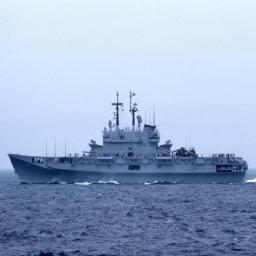Portanaves: (6, 86, 252, 189)
